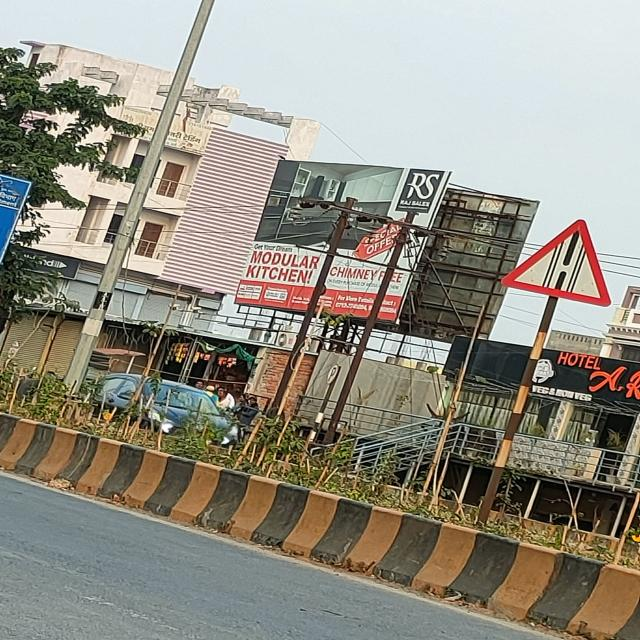GAP_IN_MEDIAN: (499, 220, 618, 307)
